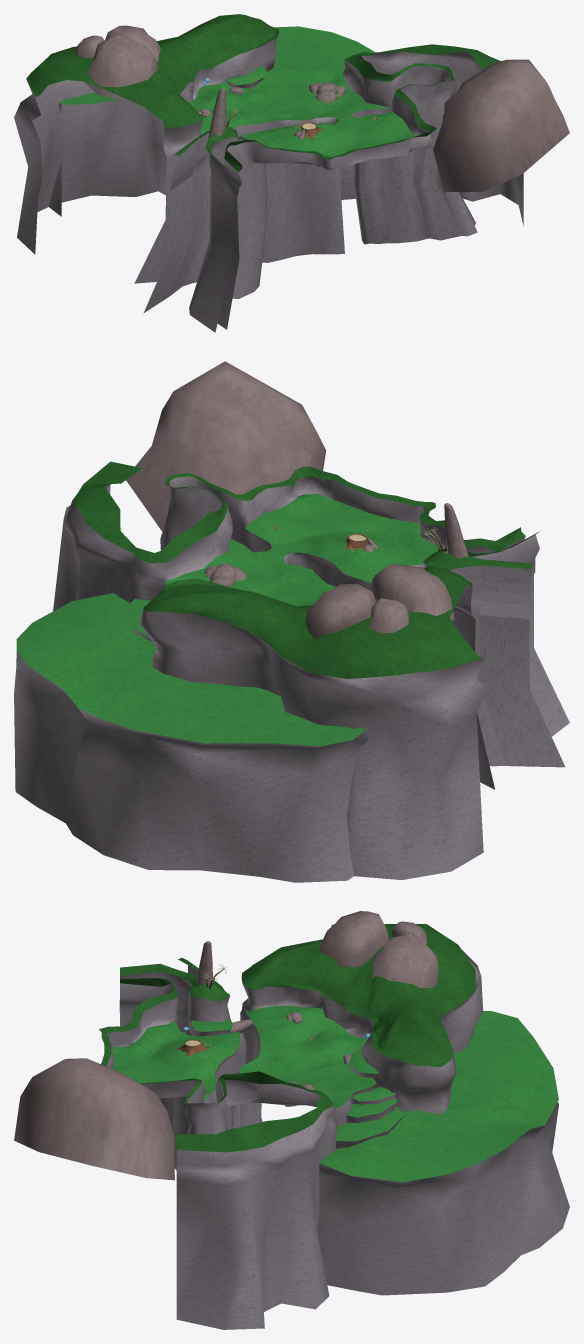
The model's file is world.fbx.
3 renders of one model, top to bottom at view 1: azimuth 30°, elevation 25°; view 2: azimuth 150°, elevation 25°; view 3: azimuth 270°, elevation 25°, orthographic. The views are drawn at different scales.
Visible parts, largest first — view 1: levelGeo; view 2: levelGeo; view 3: levelGeo.
Part boxes in pixels (box(x1,y1,x2,y2)): levelGeo: box(14, 14, 569, 332); levelGeo: box(14, 361, 569, 882); levelGeo: box(14, 911, 569, 1329).
Size of the model in its own units: 1323116 by 629977 by 1363599.
22 materials, 22 textured.
